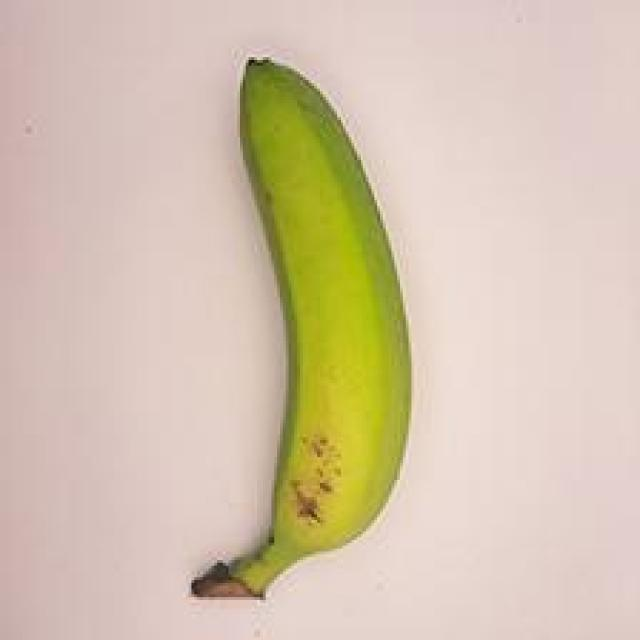Unripe: (141, 42, 437, 631)
